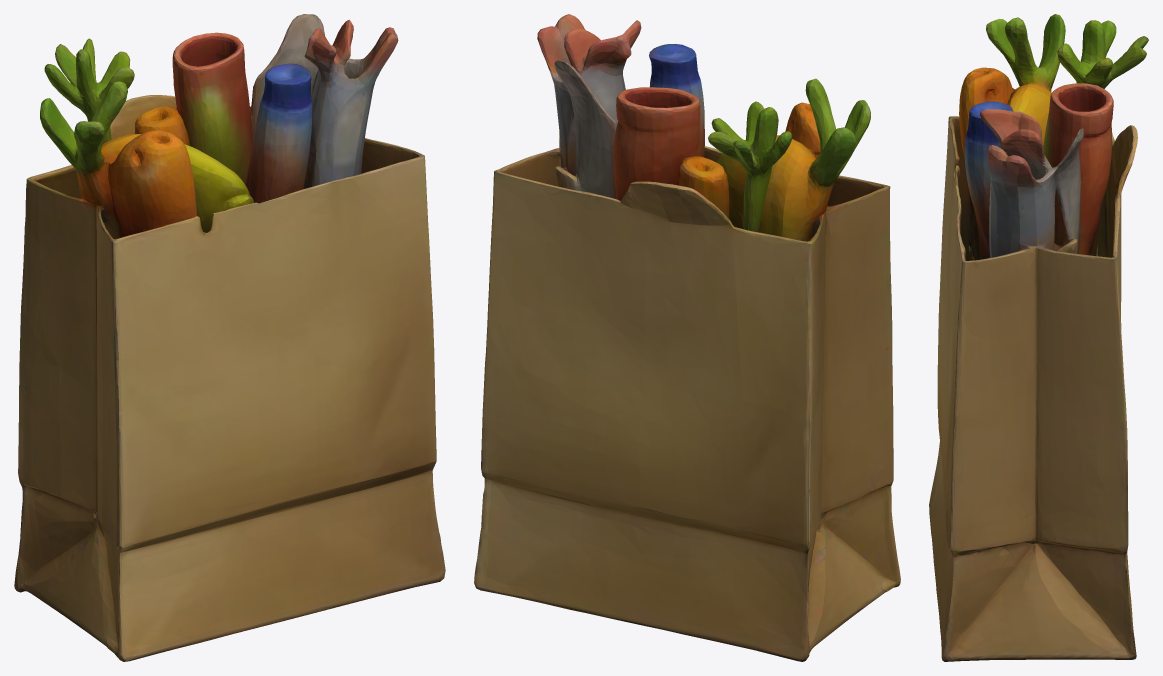
Rendered from grocery bag full.glb.
3 renders of one model, left to right at view 1: azimuth 30°, elevation 25°; view 2: azimuth 150°, elevation 25°; view 3: azimuth 270°, elevation 25°, orthographic. The views are drawn at different scales.
Visible parts, largest first — view 1: world; view 2: world; view 3: world.
Boxes of the visible parts, x1,y1,x2,y2 form: world: [14, 14, 445, 661]; world: [474, 14, 900, 661]; world: [929, 14, 1148, 661].
Size of the model in its own units: 0.673 by 0.9999 by 0.3884.
Materials: 1 (1 with a texture image).
